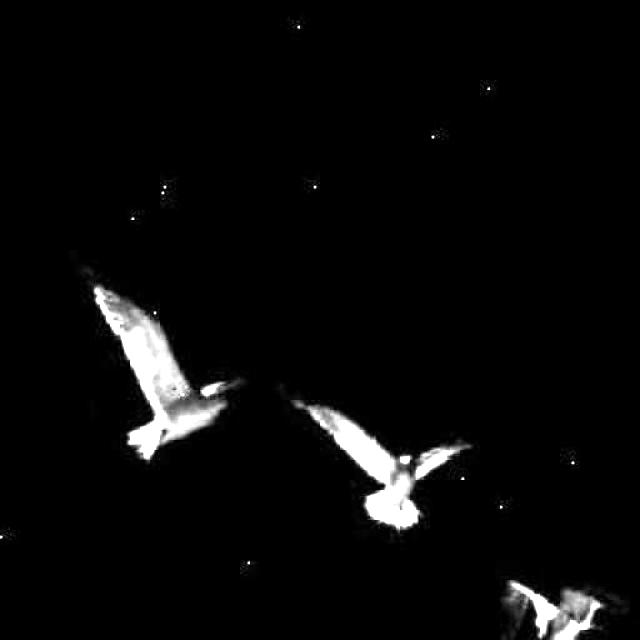airplane: (64, 211, 260, 475), (272, 341, 490, 565), (488, 561, 640, 640)
